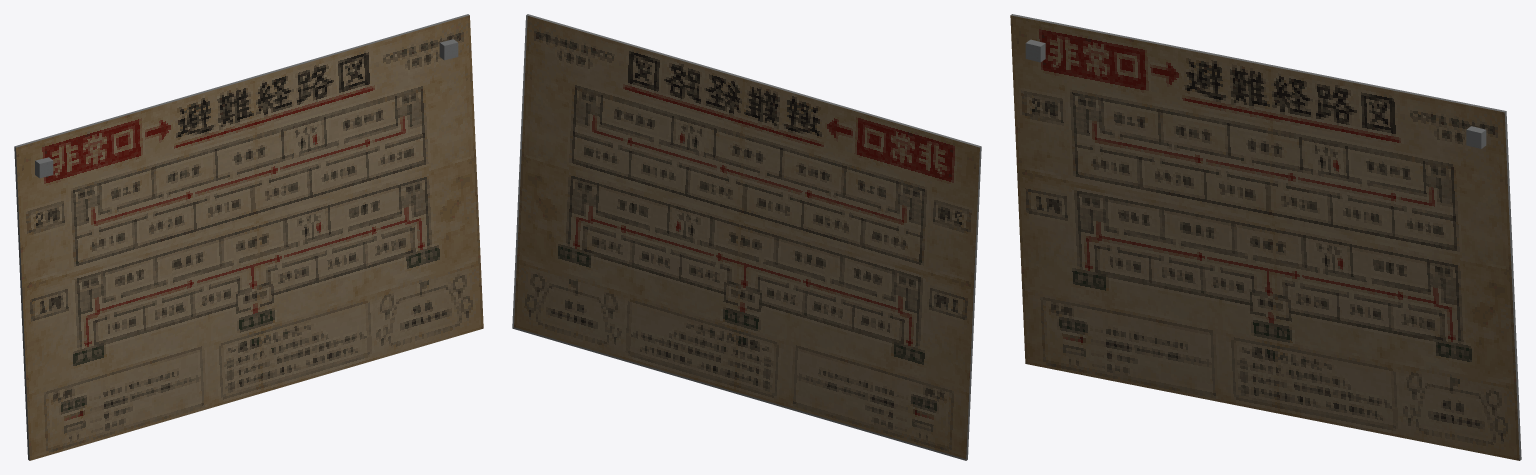
File: prop_poster-hinan-3.glb
3 renders of one model, left to right at view 1: azimuth 30°, elevation 25°; view 2: azimuth 150°, elevation 25°; view 3: azimuth 330°, elevation 25°, orthographic. The views are drawn at different scales.
Parts seen in each view (by area): view 1: prop_poster-hinan-3; view 2: prop_poster-hinan-3; view 3: prop_poster-hinan-3.
Part boxes in pixels (x1,y1,x2,y2): prop_poster-hinan-3: (14, 14, 483, 460); prop_poster-hinan-3: (512, 14, 981, 460); prop_poster-hinan-3: (1010, 14, 1521, 460).
Bounding box in the file's own units: 0.4743 × 0.3278 × 0.0115.
2 materials, 2 textured.
